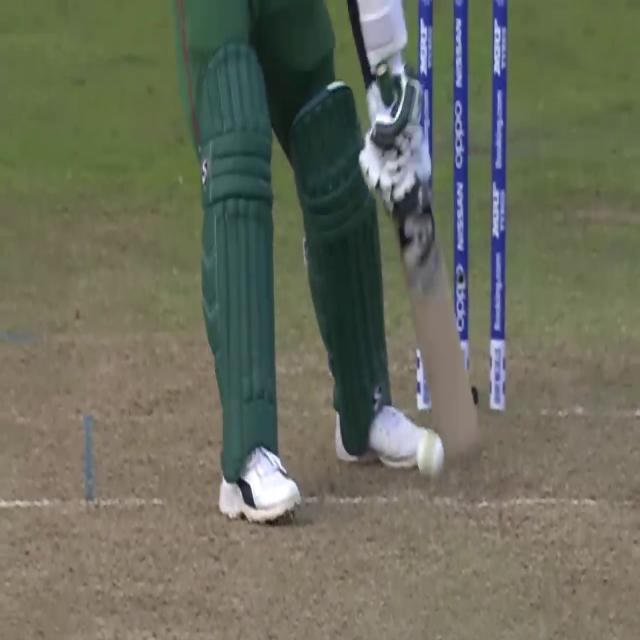ball: (416, 421, 446, 481)
